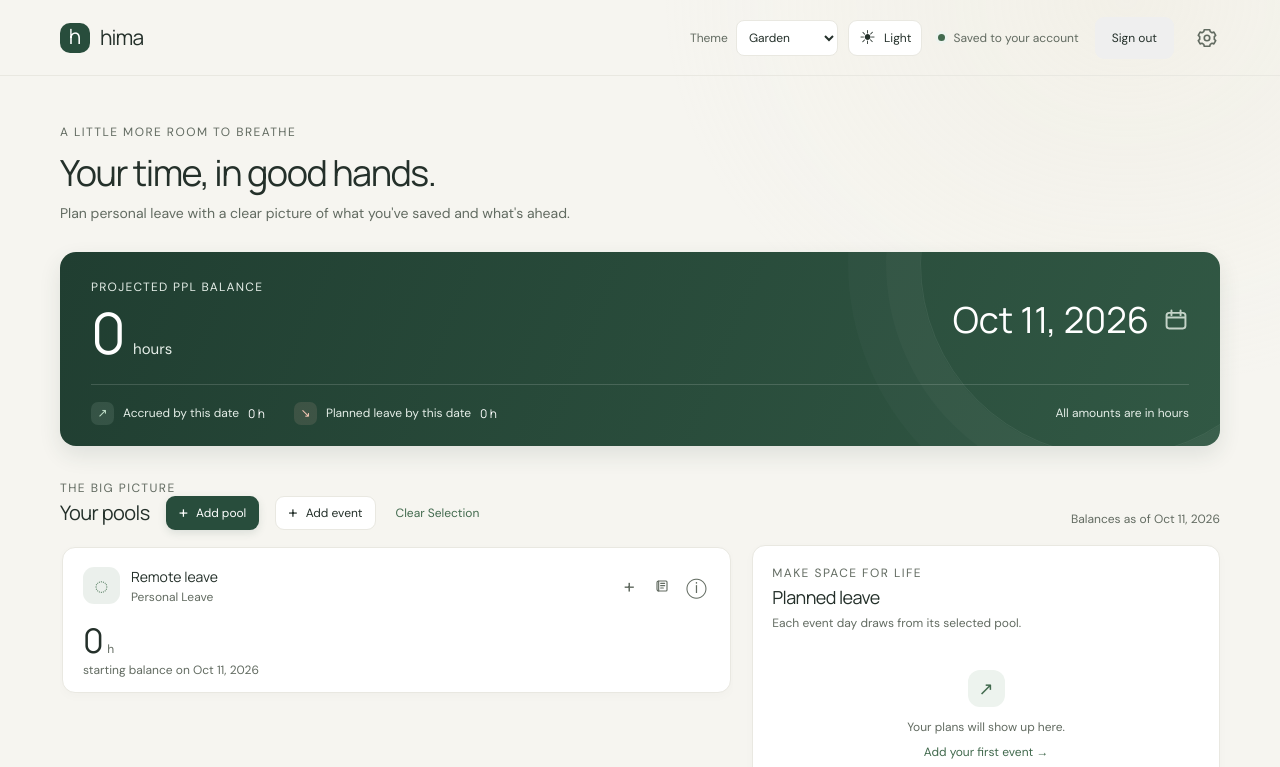
signs out everywhere from settings through the session-bound controller
The image size is (1280, 767).
Click the button named "Open settings". click: (1205, 38)
box: [1190, 22, 1220, 52]
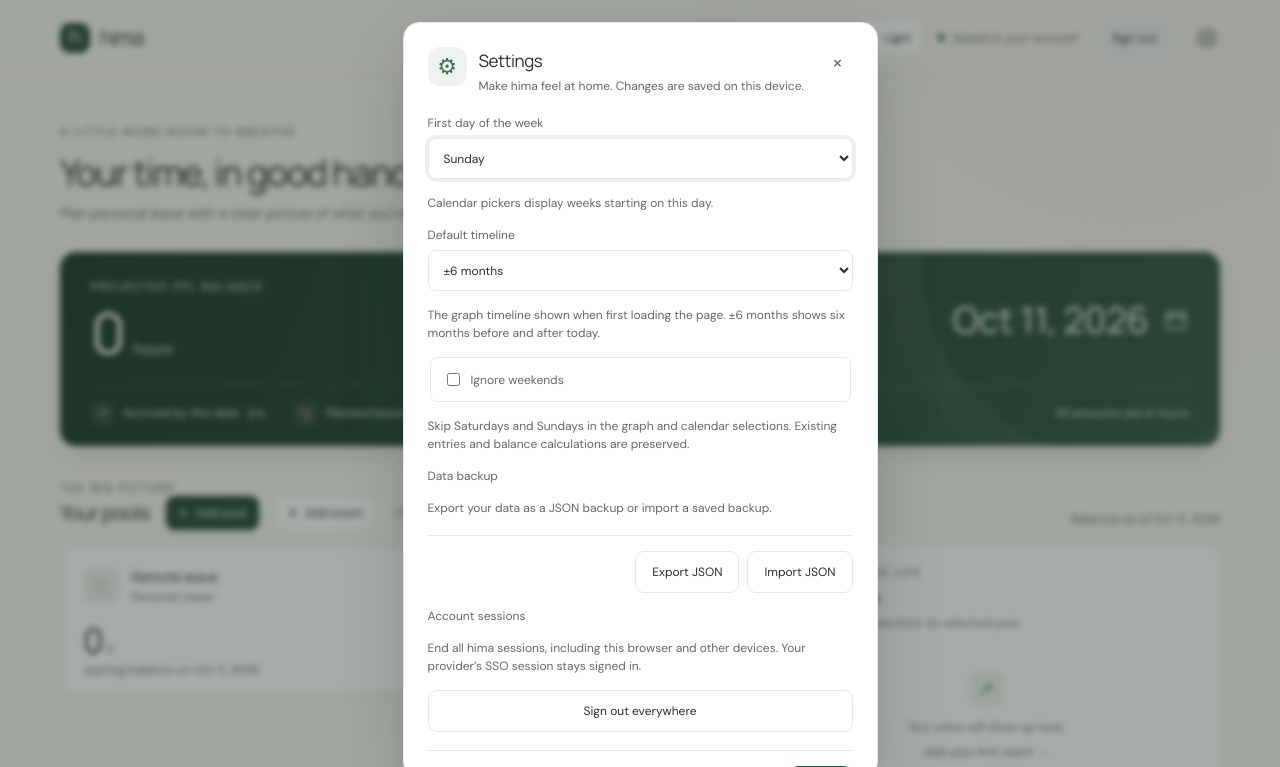
Click the button "Sign out everywhere". click: (640, 711)
box: [428, 690, 852, 732]
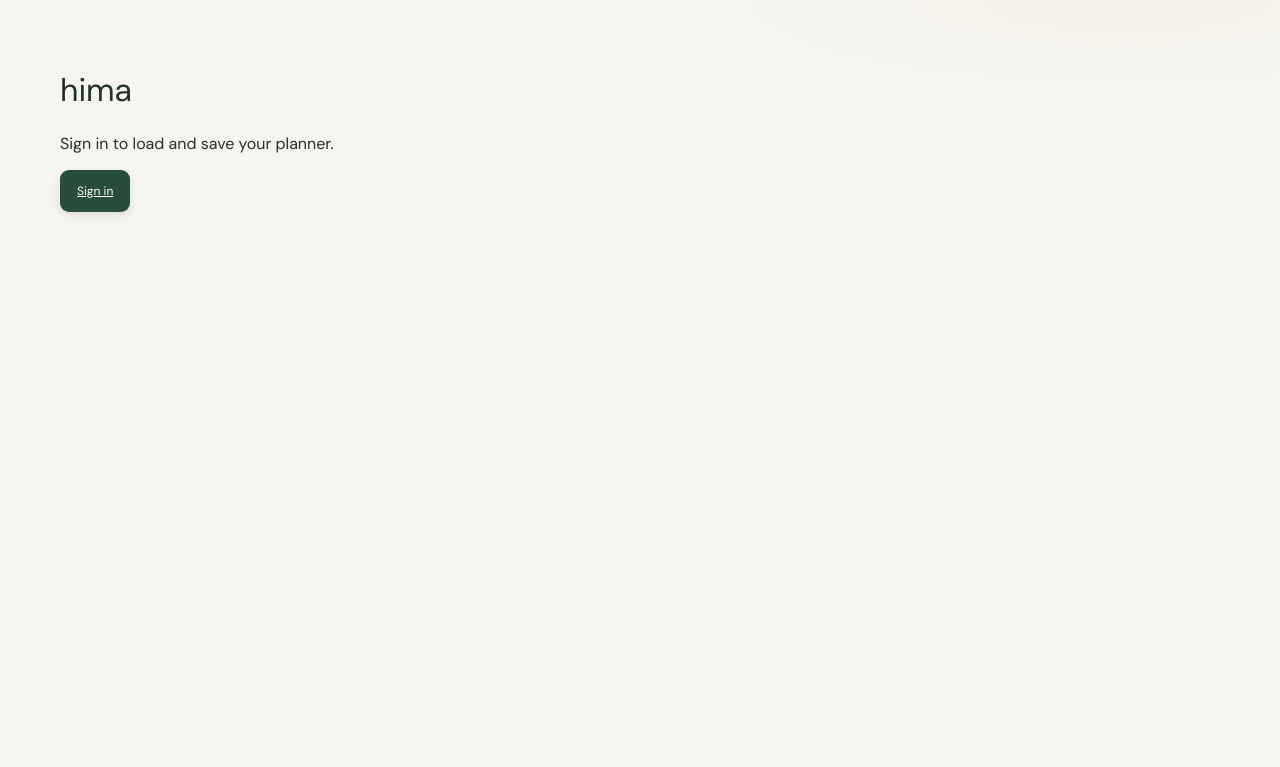
Result: the text "Sign in" is shown at [60, 133, 334, 154]
